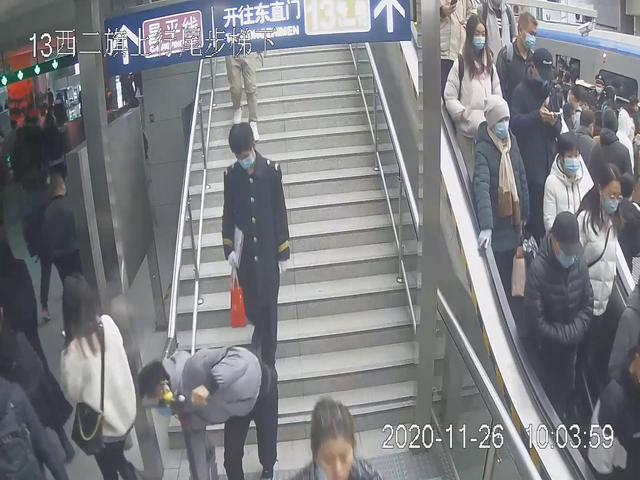person: (137, 340, 281, 480), (222, 123, 293, 367), (57, 268, 138, 480), (524, 209, 595, 439), (559, 159, 624, 397), (471, 90, 531, 336), (443, 11, 507, 216), (508, 49, 566, 251)
